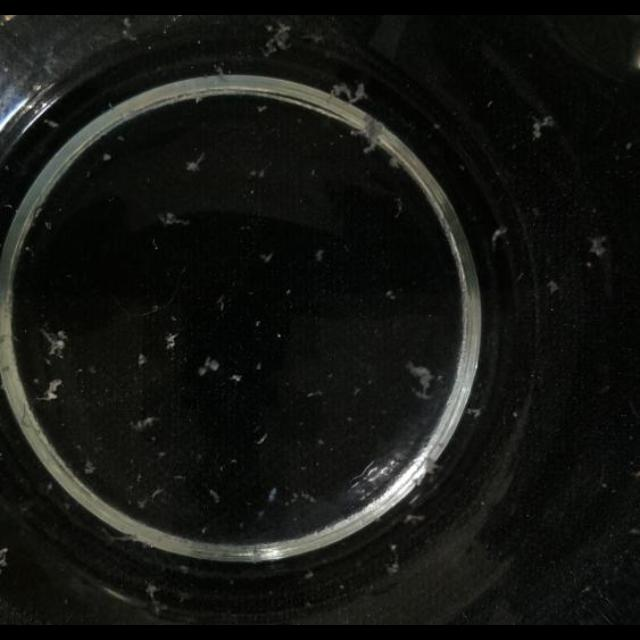Fibre: (405, 360, 437, 398), (262, 20, 294, 56), (330, 78, 370, 105), (359, 122, 387, 156), (40, 328, 68, 358), (144, 582, 166, 616), (531, 114, 557, 140), (35, 378, 63, 402), (158, 211, 190, 227), (384, 546, 400, 576), (130, 416, 158, 432), (198, 356, 220, 376), (120, 18, 138, 42), (186, 153, 207, 173), (164, 331, 180, 349), (491, 228, 507, 246), (392, 197, 404, 219), (404, 514, 426, 524), (388, 156, 402, 170), (84, 460, 96, 476), (466, 406, 482, 418), (215, 64, 228, 78), (252, 167, 266, 180), (259, 251, 273, 263), (208, 490, 220, 504), (216, 294, 226, 310), (255, 432, 267, 444), (138, 354, 148, 368), (314, 250, 324, 262), (230, 374, 242, 384), (386, 290, 396, 300)
microbeads: (587, 236, 609, 258), (546, 280, 560, 294)
